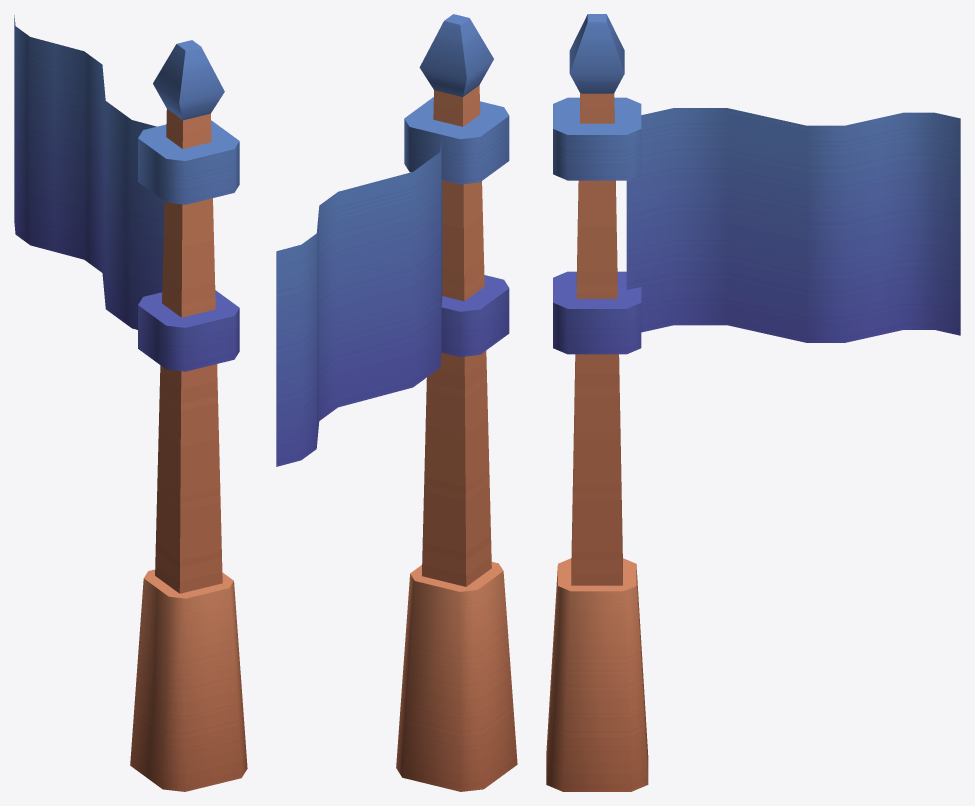
Rendered from flag-castle.glb.
The picture shows the model from 3 angles, left to right: view 1: azimuth 30°, elevation 25°; view 2: azimuth 150°, elevation 25°; view 3: azimuth 270°, elevation 25°; orthographic projection. The views are drawn at different scales.
Parts seen in each view (by area): view 1: flag; view 2: flag; view 3: flag.
Boxes of the visible parts, x1,y1,x2,y2 form: flag: (14, 15, 247, 791); flag: (276, 14, 517, 791); flag: (546, 14, 960, 791).
Size of the model in its own units: 0.1064 by 0.8656 by 0.4323.
Materials: 1 (1 with a texture image).
